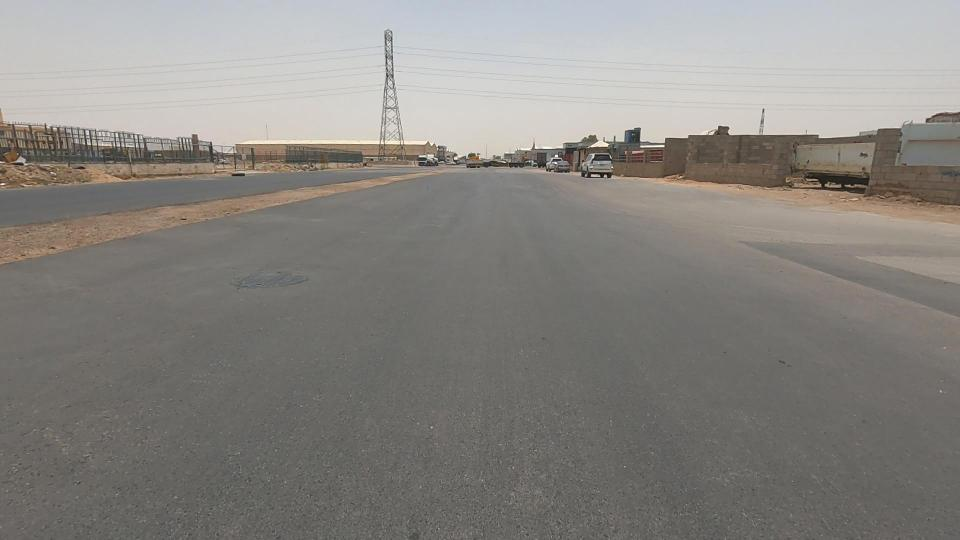CLUTTER_SIDEWALK: (0, 193, 224, 271), (226, 154, 416, 224), (135, 173, 303, 245)
